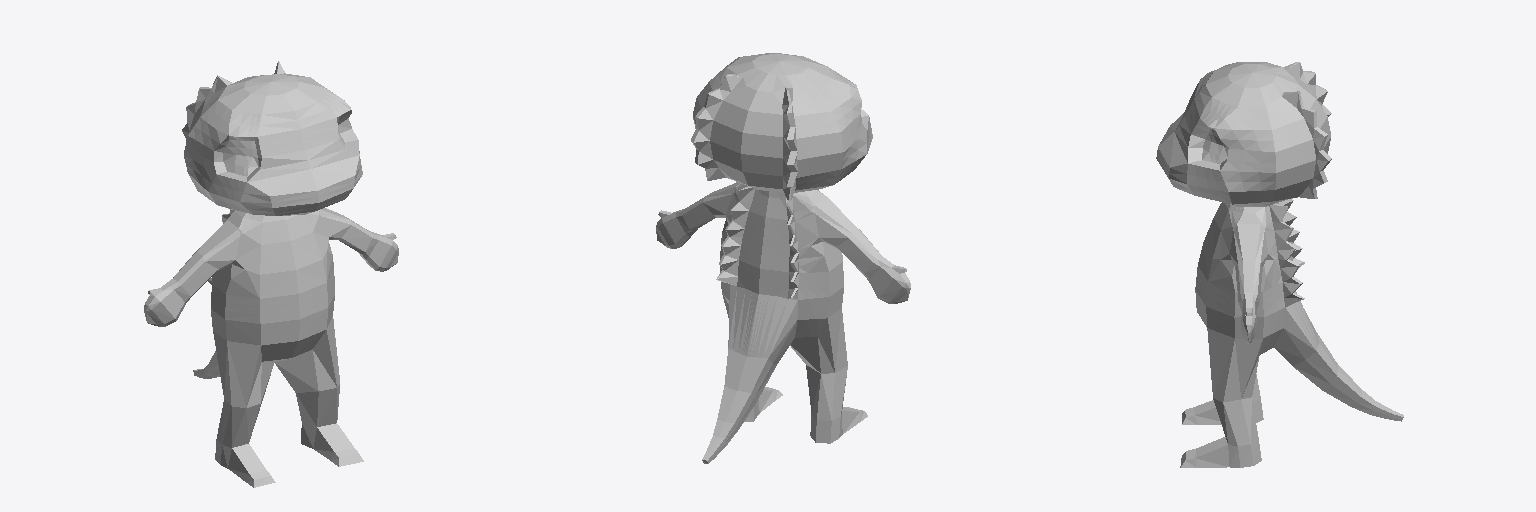
Rendered from Player1.obj.
The picture shows the model from 3 angles: view 1: azimuth 30°, elevation 25°; view 2: azimuth 150°, elevation 25°; view 3: azimuth 270°, elevation 25°; orthographic projection.
Visible parts, largest first — view 1: pSphere1; view 2: pSphere1; view 3: pSphere1.
Part boxes in pixels (left/top/right/bottom): pSphere1: left=144, top=61, right=398, bottom=487; pSphere1: left=656, top=53, right=910, bottom=463; pSphere1: left=1156, top=62, right=1403, bottom=467.
Size of the model in its own units: 1.53 by 2.11 by 1.29.